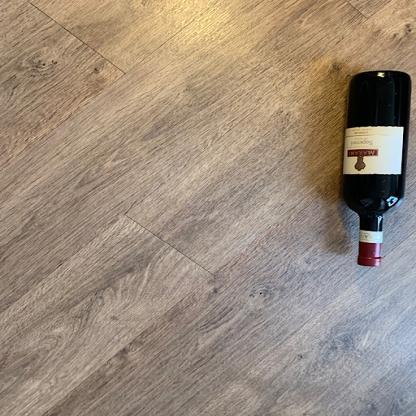trash: (341, 69, 412, 270)
